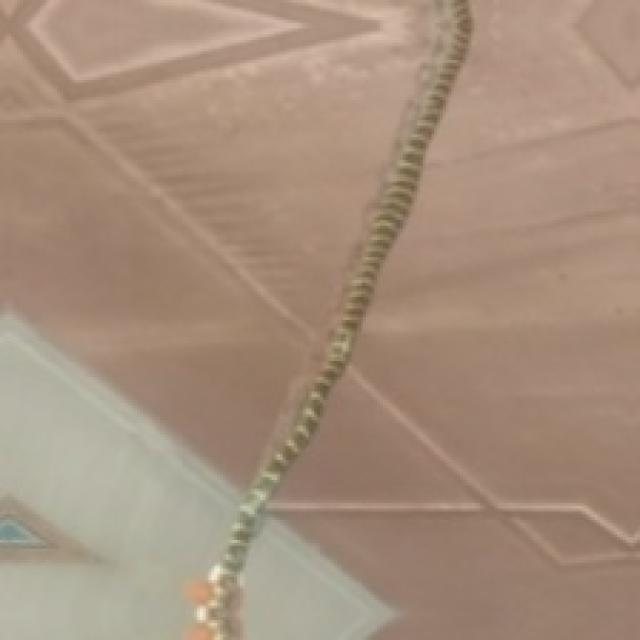mangrove cat snake: (189, 0, 469, 637)
